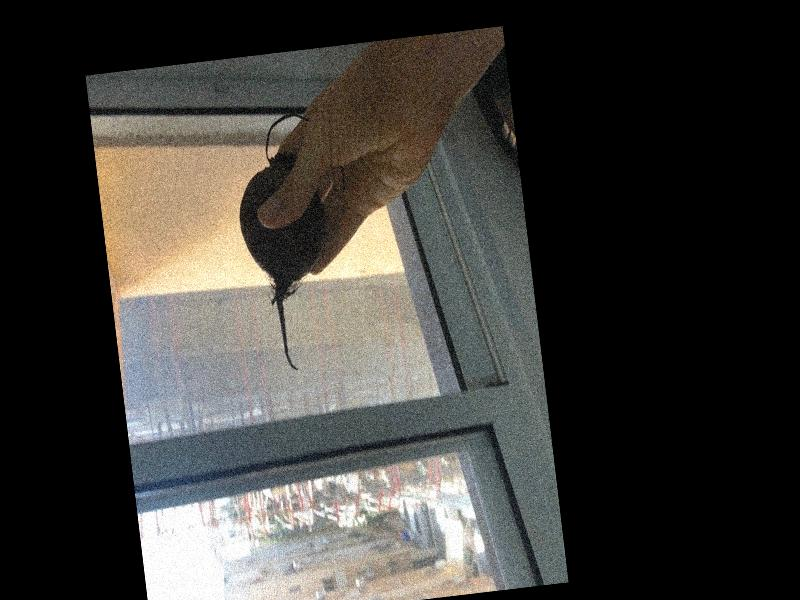Beet: (228, 108, 367, 375)
